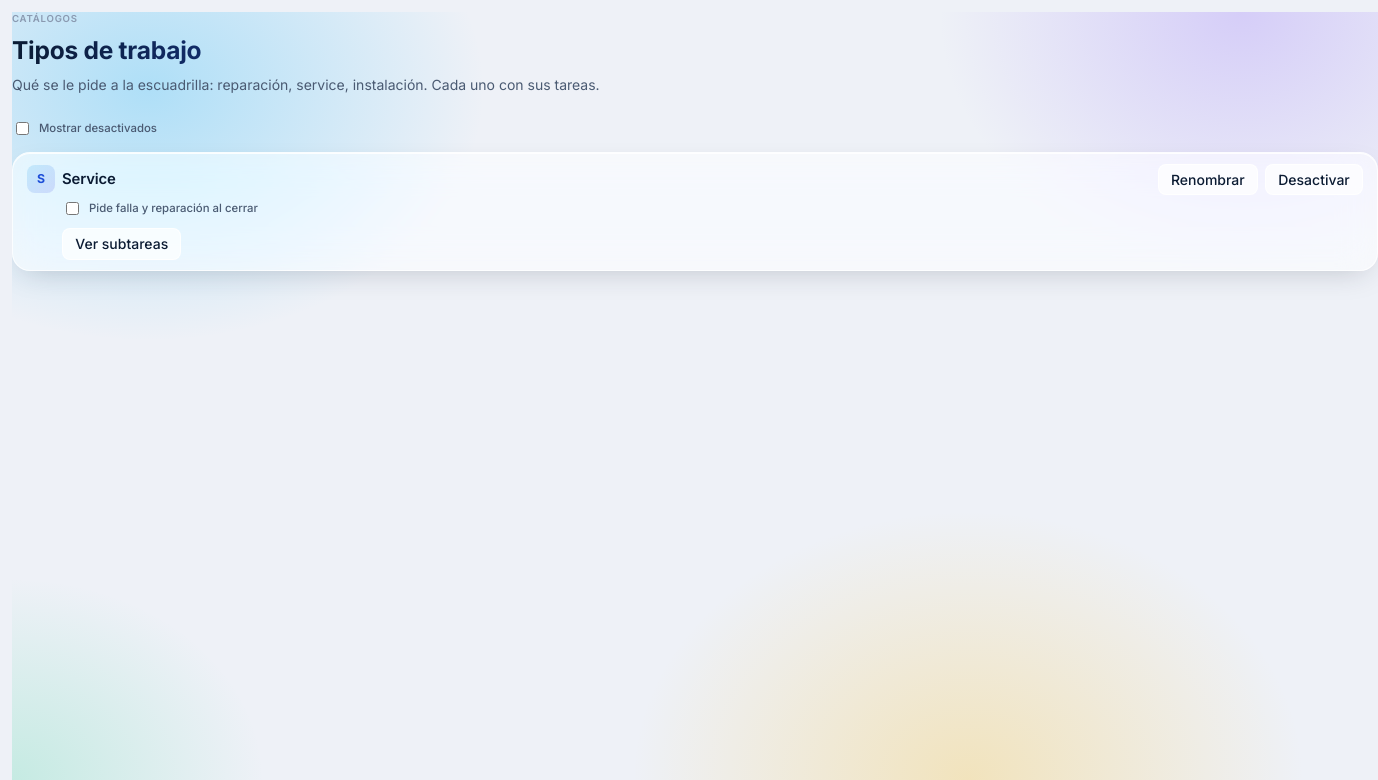
Scenario: WorkTypesPage › lista los tipos activos y muestra los desactivados al pedirlo
Check: the text "Service" is shown, box left=62, top=170, right=116, bottom=188
Check: the text "Retiro" is not shown
Click the checkbox labelled "Mostrar desactivados": coordinates (22, 129) left=16, top=122, right=29, bottom=135
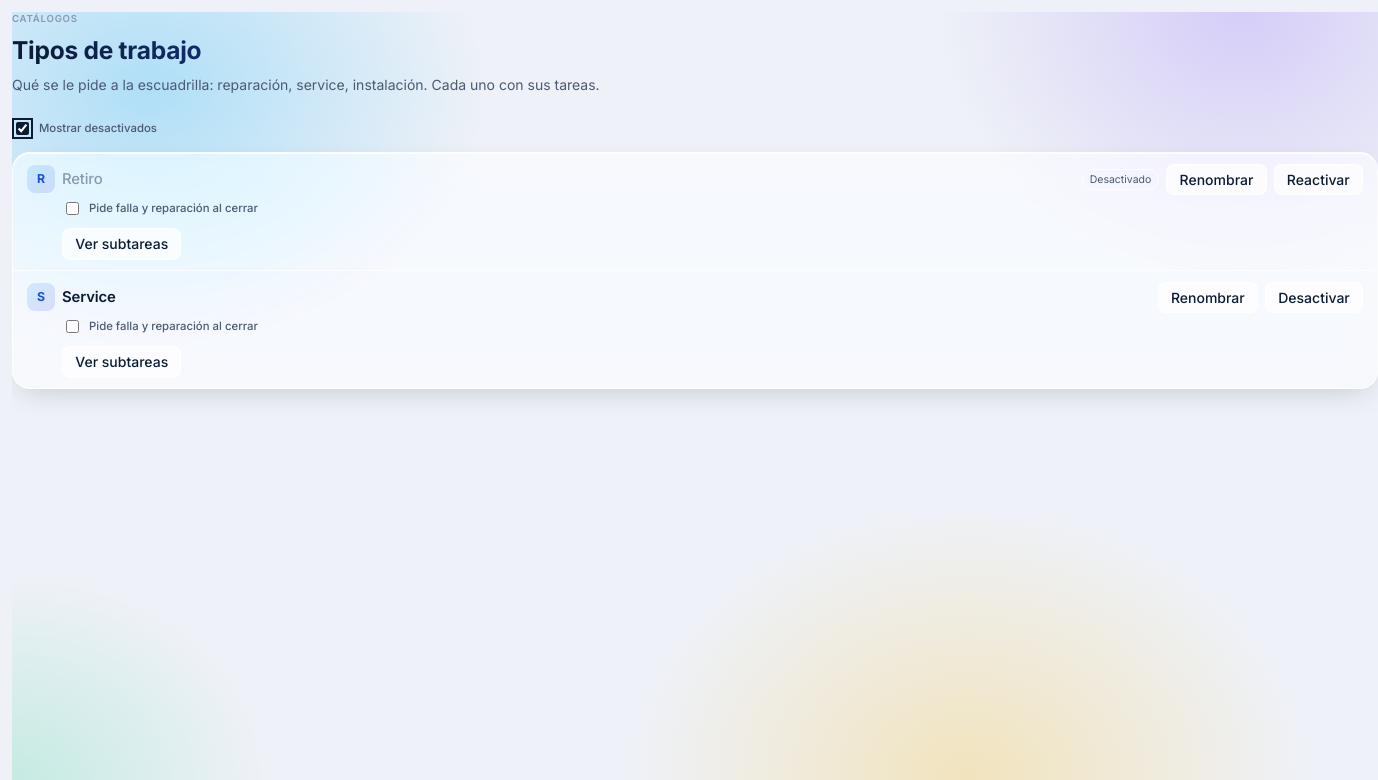
Check: the text "Retiro" is shown, box left=62, top=170, right=102, bottom=188
Check: the text "Desactivado" is shown, box left=1082, top=169, right=1159, bottom=190
Check: the button with aria-label "Reactivar Retiro" is shown, box left=1274, top=164, right=1363, bottom=195
